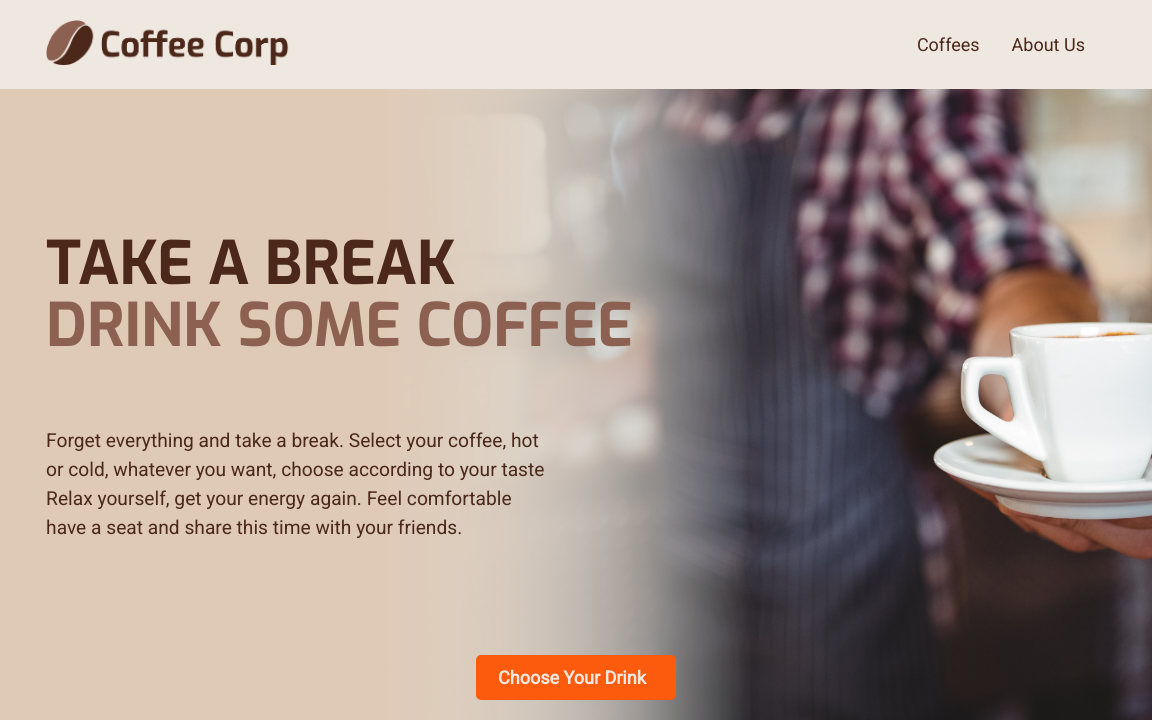
Test: Frontend General Test › should cta button forward to coffee page
Click the link "Choose Your Drink" at (576, 678), box [476,655,676,700]
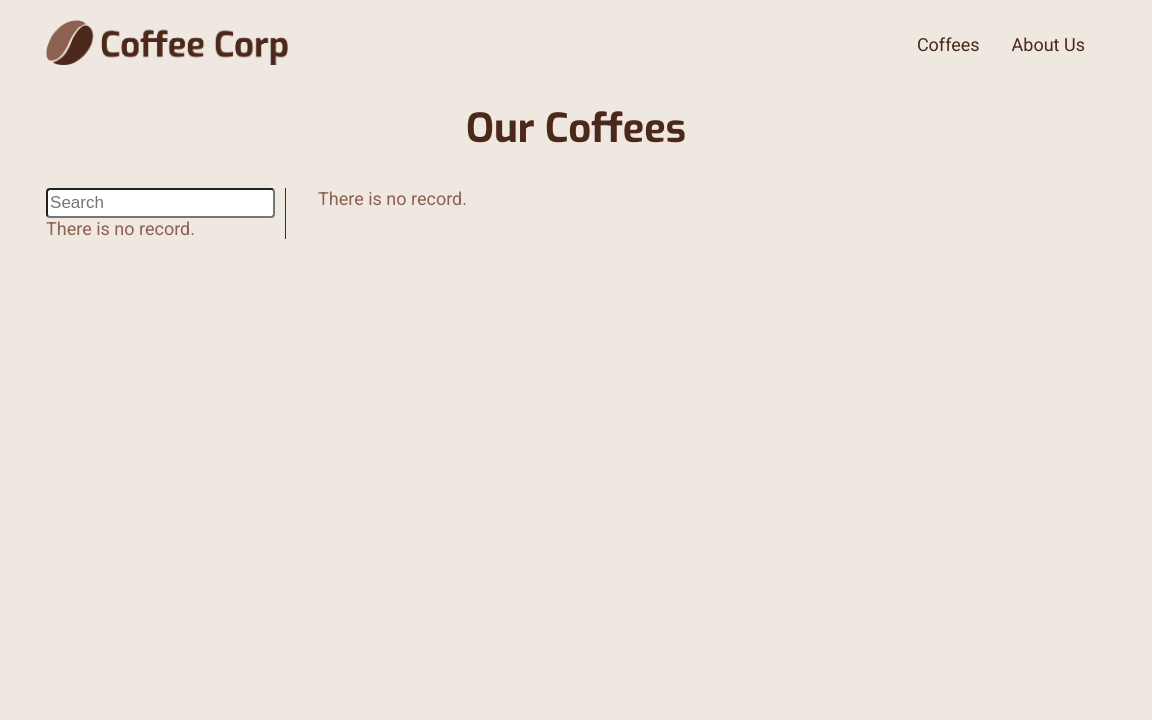
Expected: the heading "Our Coffees" is shown, [466,102,686,155]
